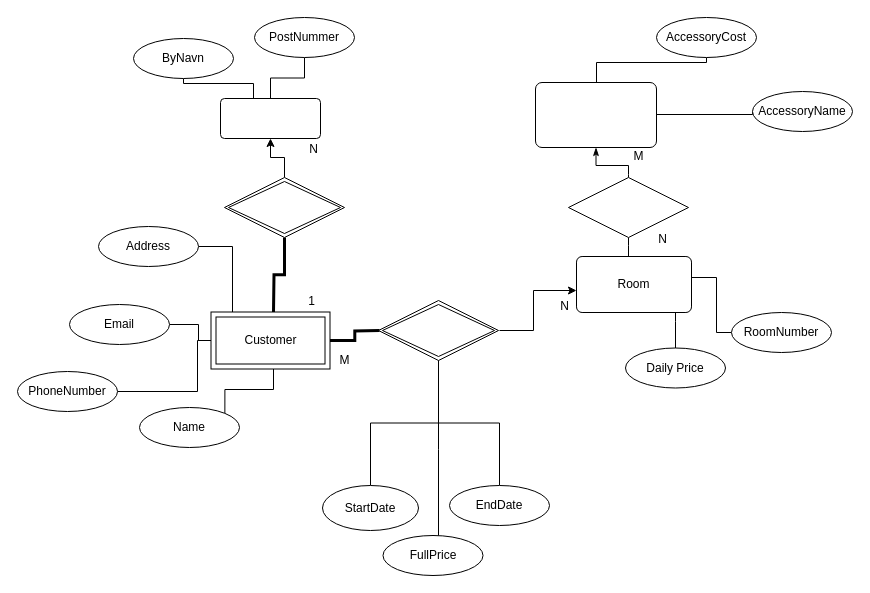
Some shapes in this 870 by 593 pixel diagram are drawn without their labels. Each missing label, with the box of its shape:
By: (220, 98, 320, 138)
Has: (568, 176, 688, 238)
Lives in: (224, 176, 344, 238)
Reserves a: (378, 300, 498, 360)
RoomAccessory: (534, 82, 656, 148)
